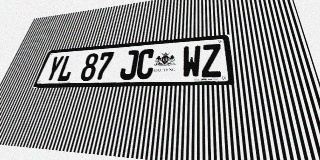7: (93, 52, 114, 81)
8: (79, 53, 100, 81)
C: (135, 49, 155, 79)
J: (119, 50, 139, 80)
L: (56, 55, 77, 82)
W: (182, 45, 201, 78)
Y: (43, 55, 65, 82)
Z: (201, 44, 222, 78)
